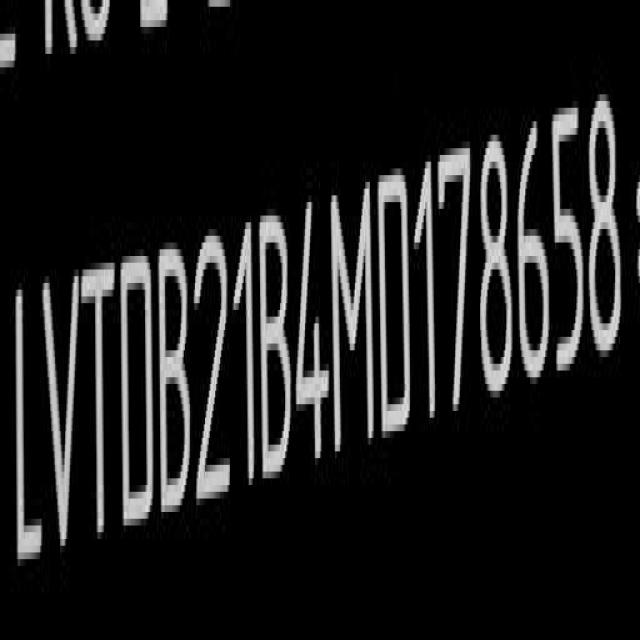1: (418, 153, 438, 440), (234, 214, 254, 499)
2: (198, 238, 232, 514)
4: (297, 198, 334, 476)
5: (551, 93, 585, 377)
6: (519, 110, 553, 389)
7: (440, 136, 474, 419)
8: (478, 131, 514, 405), (590, 87, 625, 358)
B: (158, 240, 194, 524), (258, 204, 294, 483)
D: (120, 246, 158, 532), (381, 161, 417, 447)
L: (12, 272, 44, 579)
M: (334, 177, 375, 461)
T: (83, 254, 116, 552)
V: (42, 268, 82, 572)
